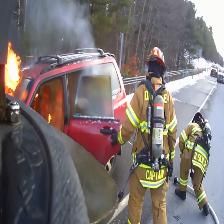fire: (33, 79, 84, 149), (2, 41, 35, 107)
smoke: (18, 0, 127, 83)
